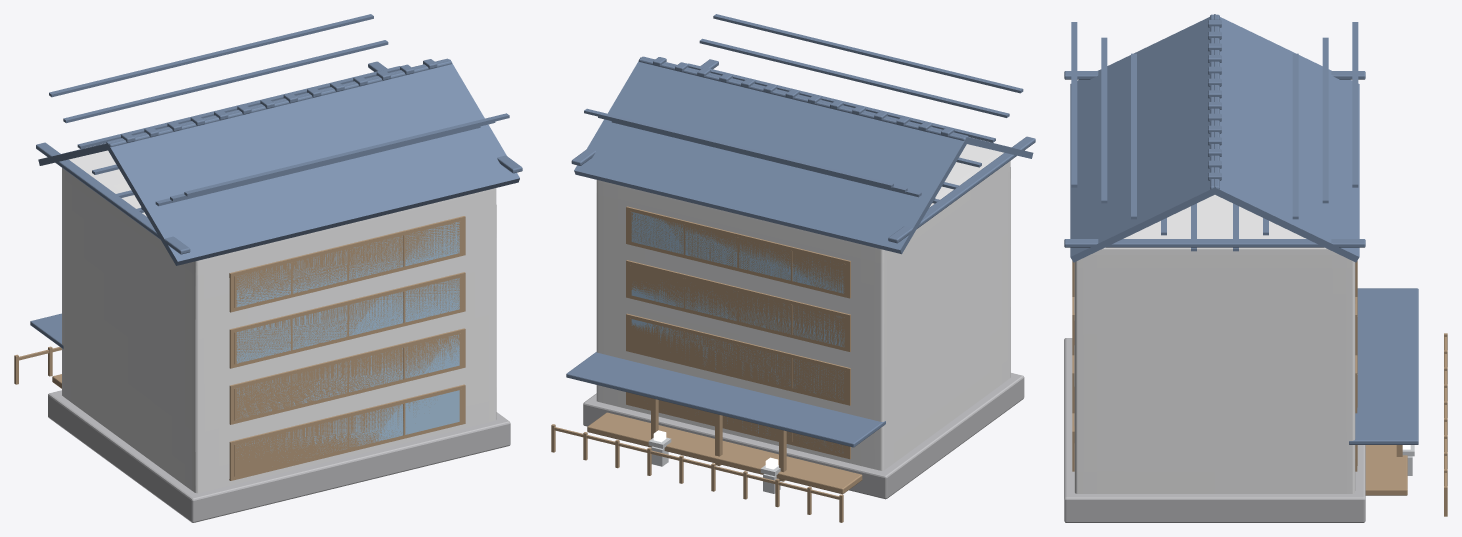
File: office_c.glb
The picture shows the model from 3 angles, left to right: view 1: azimuth 30°, elevation 25°; view 2: azimuth 150°, elevation 25°; view 3: azimuth 270°, elevation 25°; orthographic projection. The views are drawn at different scales.
Parts seen in each view (by area): view 1: BodyC, RoofTileB_C, BaseC, ShojiFr_C_3_-1, ShojiFr_C_1_-1, ShojiFr_C_2_-1, ShojiFr_C_0_-1, Shoji_C_2_-1, Shoji_C_3_-1, Shoji_C_0_-1, Shoji_C_1_-1, TileRowB_C_0 (+9 smaller); view 2: BodyC, RoofTileF_C, PorchRoof_C, ShojiFr_C_1_1, ShojiFr_C_2_1, BaseC, ShojiFr_C_3_1, Engawa_C, Shoji_C_3_1, Shoji_C_2_1, ShojiFr_C_0_1, TileRowB_C_0 (+9 smaller); view 3: BodyC, RoofTileF_C, RoofTileB_C, BaseC, PorchRoof_C, EaveTip_C_9.899999999999999, Engawa_C, TileRowF_C_1, TileRowB_C_1, TileRowF_C_2, TileRowF_C_0, TileRowB_C_0 (+3 smaller).
Part boxes in pixels (bbox=[...]): BodyC: bbox=[62, 150, 496, 493]; RoofTileB_C: bbox=[107, 59, 519, 265]; BaseC: bbox=[48, 390, 510, 522]; ShojiFr_C_3_-1: bbox=[229, 216, 465, 312]; ShojiFr_C_1_-1: bbox=[229, 328, 465, 424]; ShojiFr_C_2_-1: bbox=[229, 272, 465, 368]; ShojiFr_C_0_-1: bbox=[229, 384, 465, 480]; Shoji_C_2_-1: bbox=[236, 278, 459, 363]; Shoji_C_3_-1: bbox=[236, 221, 459, 307]; Shoji_C_0_-1: bbox=[238, 390, 459, 460]; Shoji_C_1_-1: bbox=[236, 334, 459, 419]; TileRowB_C_0: bbox=[184, 113, 509, 196]; BodyC: bbox=[596, 144, 1010, 470]; RoofTileF_C: bbox=[574, 57, 968, 254]; PorchRoof_C: bbox=[566, 352, 885, 447]; ShojiFr_C_1_1: bbox=[626, 313, 850, 405]; ShojiFr_C_2_1: bbox=[626, 260, 850, 351]; BaseC: bbox=[583, 373, 1024, 499]; ShojiFr_C_3_1: bbox=[626, 206, 850, 298]; Engawa_C: bbox=[587, 412, 862, 494]; Shoji_C_3_1: bbox=[631, 212, 844, 293]; Shoji_C_2_1: bbox=[631, 282, 844, 347]; ShojiFr_C_0_1: bbox=[626, 392, 850, 459]; TileRowB_C_0: bbox=[713, 14, 1023, 93]; BodyC: bbox=[1074, 195, 1355, 493]; RoofTileF_C: bbox=[1211, 14, 1359, 262]; RoofTileB_C: bbox=[1070, 14, 1218, 262]; BaseC: bbox=[1064, 338, 1365, 522]; PorchRoof_C: bbox=[1349, 288, 1418, 444]; EaveTip_C_9.899999999999999: bbox=[1064, 239, 1365, 247]; Engawa_C: bbox=[1365, 445, 1407, 495]; TileRowF_C_1: bbox=[1322, 37, 1328, 203]; TileRowB_C_1: bbox=[1101, 37, 1107, 203]; TileRowF_C_2: bbox=[1292, 53, 1298, 219]; TileRowF_C_0: bbox=[1352, 22, 1358, 187]; TileRowB_C_0: bbox=[1071, 22, 1077, 187].
Bounding box in the file's own units: 20.4 × 18.98 × 19.09.
